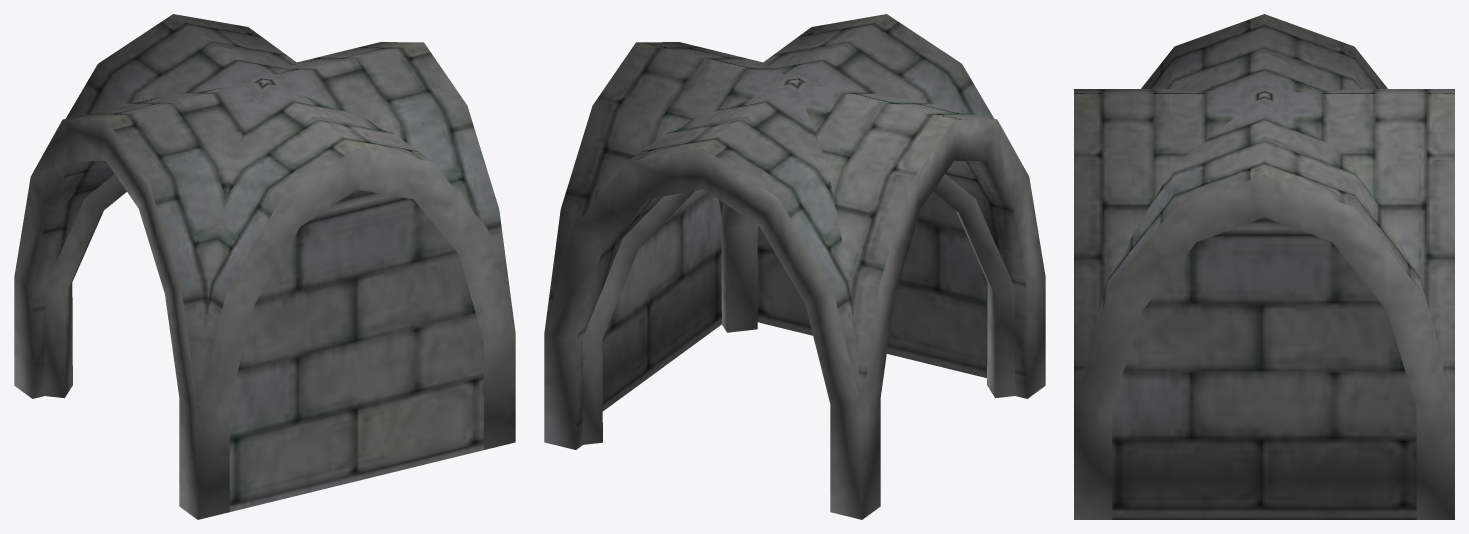
Rendered from sd_vault_ceiling_small_04.glb.
3 renders of one model, left to right at view 1: azimuth 30°, elevation 25°; view 2: azimuth 150°, elevation 25°; view 3: azimuth 270°, elevation 25°, orthographic. The views are drawn at different scales.
Parts seen in each view (by area): view 1: vault_ceiling_small_04; view 2: vault_ceiling_small_04; view 3: vault_ceiling_small_04.
Part boxes in pixels (x1,y1,x2,y2): vault_ceiling_small_04: (14,14,515,519); vault_ceiling_small_04: (544,14,1045,519); vault_ceiling_small_04: (1074,14,1454,519).
Bounding box in the file's own units: 2 × 2 × 2.
Materials: 1 (1 with a texture image).
